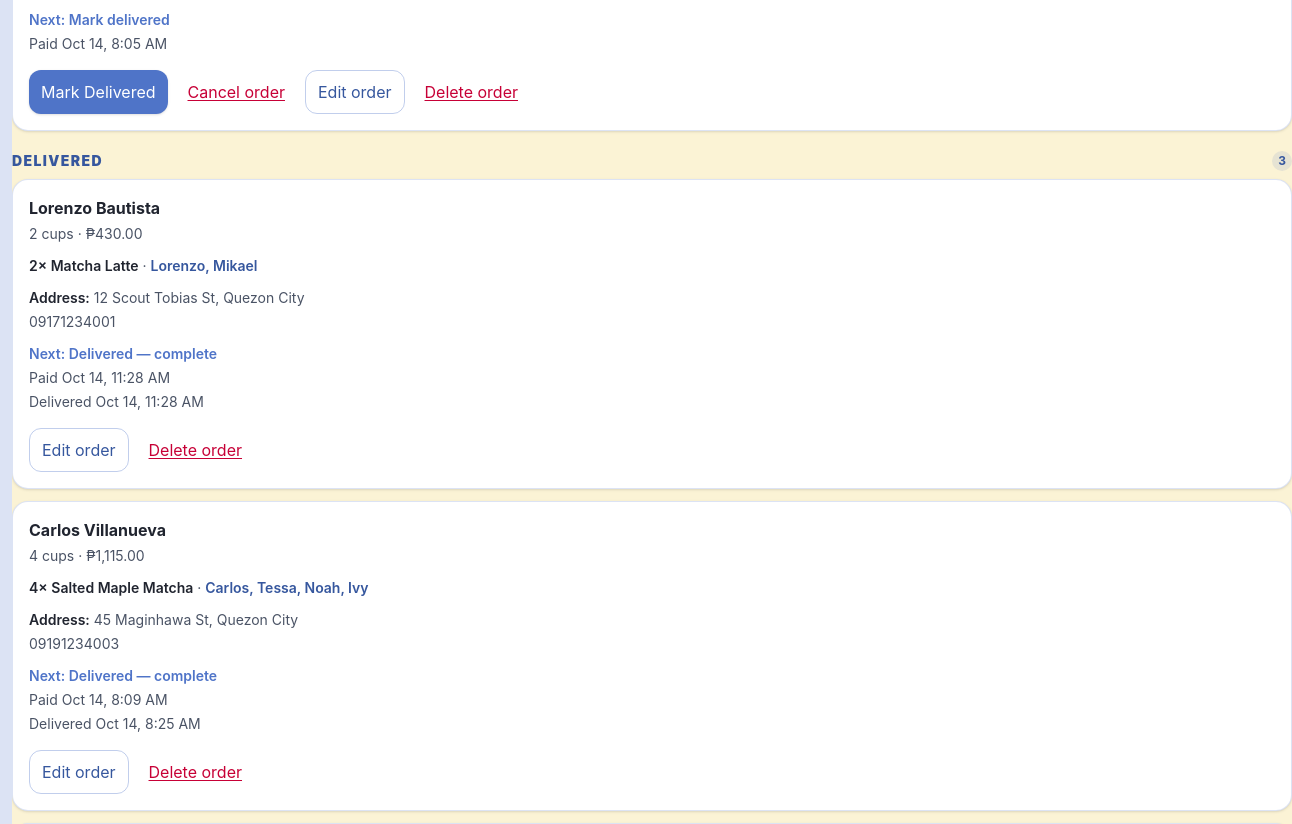
TodayBoard › deletes an order after a single confirmation, leaving no orphan order_items
(page scrolled)
Click the button "Delete order" below "Delivered Oct 14, 11:28 AM": click(195, 450) [136,428,254,472]
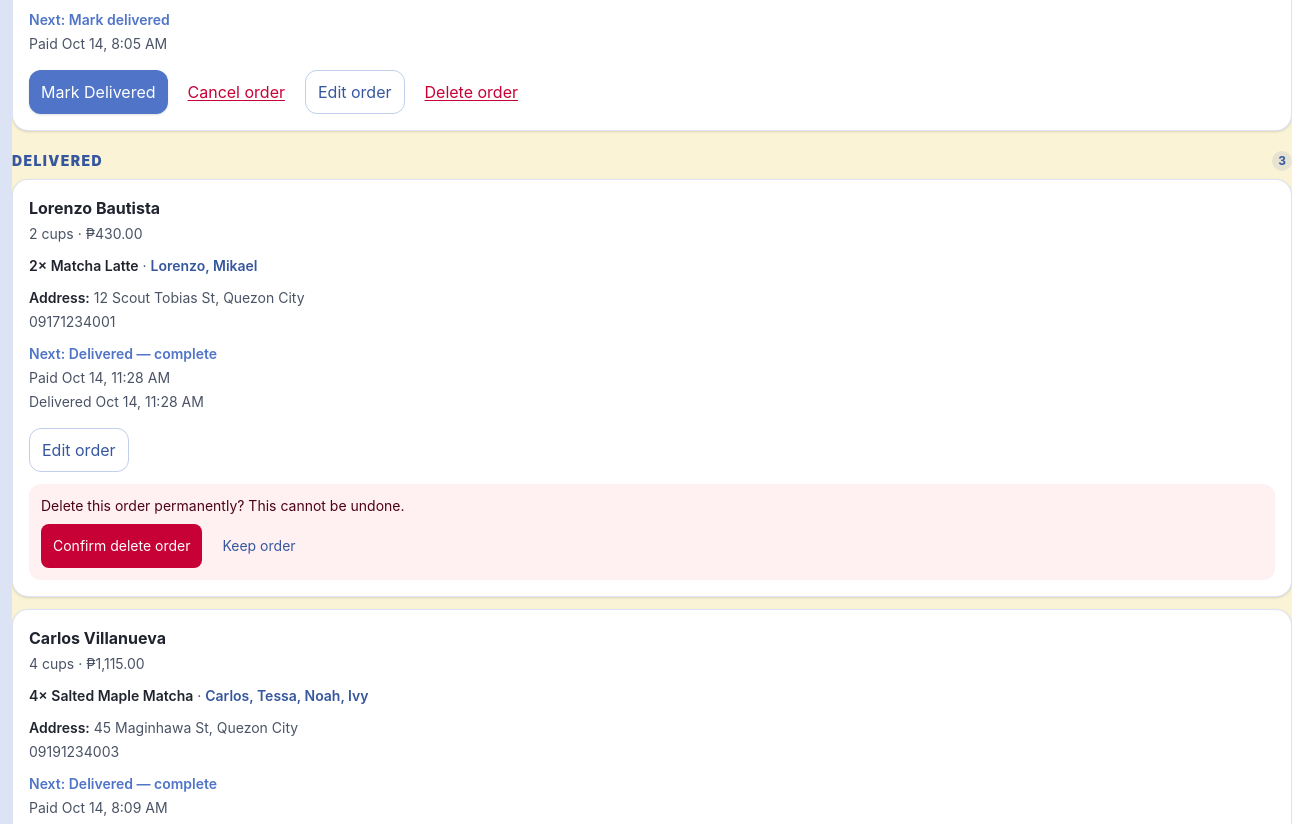
Check: the message shows "Delete this order permanently?", box [41,497,404,514]
Click the button "Confirm delete order": click(122, 546) [41,524,202,568]
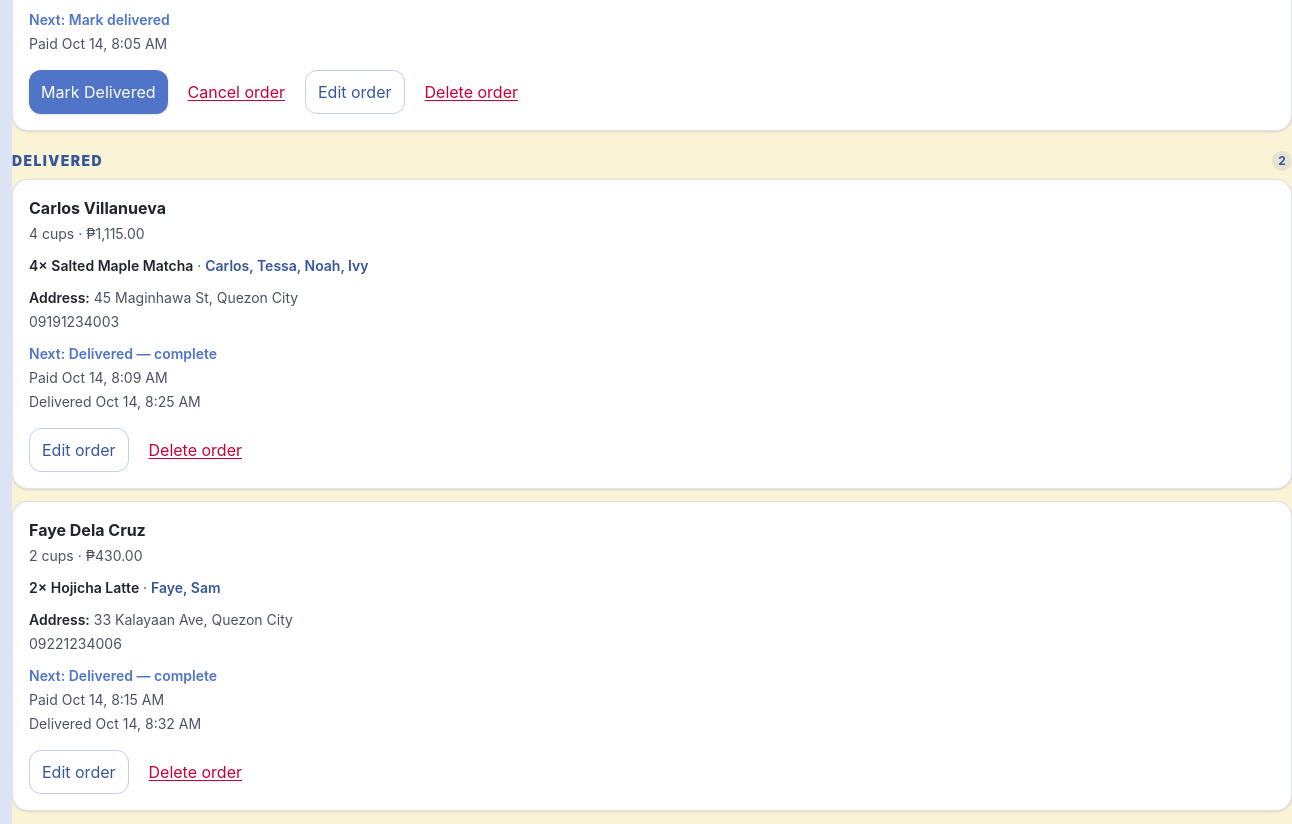
Check: the heading "Lorenzo Bautista" is gone
